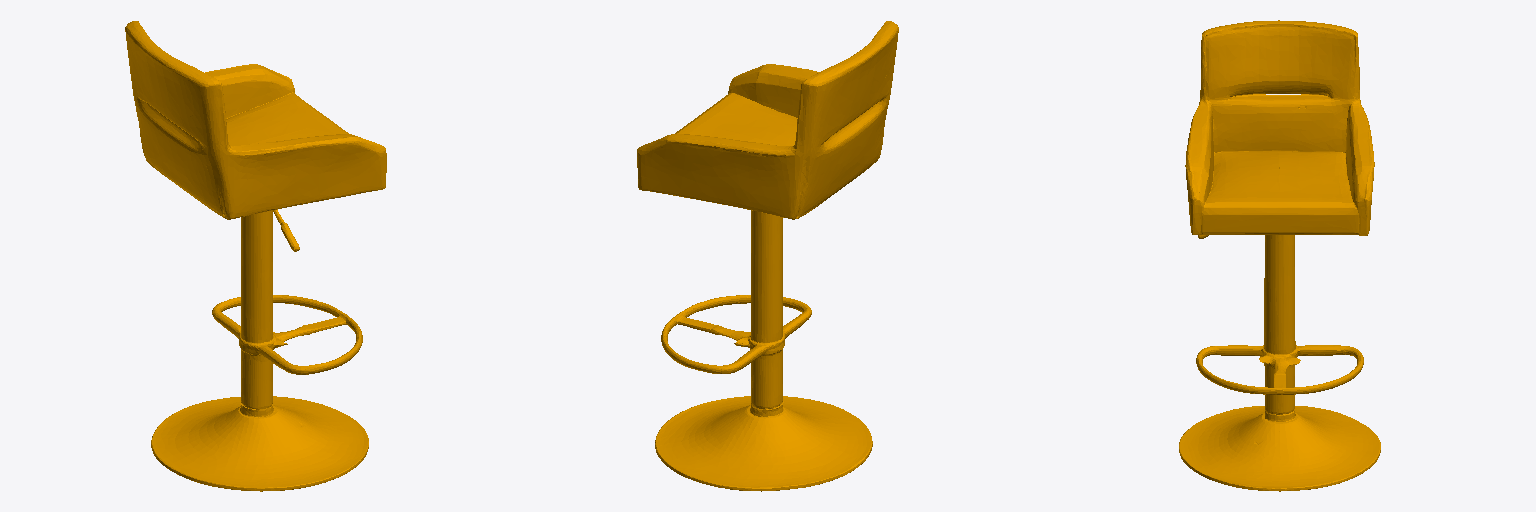
The robot description file, URDF, robot "bar_stool_32":
<?xml version="1.0" ?>
<robot name="bar_stool_32">
   <link name="bar_stool_32">
      <visual>
         <origin xyz="0 0 0" rpy="1.5708 0.0 0.0"/>
         <geometry>
            <mesh filename="mesh/bar_stool_32.obj" scale="1.0 1.0 1.0"/>
         </geometry>
      </visual>
      <collision>
         <origin xyz="0 0 0" rpy="1.5708 0.0 0.0"/>
         <geometry>
            <mesh filename="mesh/bar_stool_32_collision.obj" scale="1.0 1.0 1.0"/>
         </geometry>
         <gazebo>
            <mu1>0.80</mu1>
            <mu2>0.60</mu2>
         </gazebo>
      </collision>
      <inertial>
         <mass value="8.0000"/>
         <origin xyz="0 0 0"/>
         <inertia ixx="1.0" ixy="0.0" ixz="0.0" iyy="1.0" iyz="0.0" izz="1.0"/>
      </inertial>
      <extra_info>
         <scale>1.000000</scale>
         <version>v0.1.5</version>
         <category>bar_stool</category>
         <description>modern orange bar stool with backrest, footrest, and adjustable height mechanism</description>
         <min_height>0.9</min_height>
         <max_height>1.1</max_height>
         <real_height>1.0</real_height>
         <min_mass>6.0</min_mass>
         <max_mass>10.0</max_mass>
         <generate_time>20251021123119</generate_time>
         <gs_model>mesh/bar_stool_32_gs.ply</gs_model>
      </extra_info>
   </link>
   <custom_data>
      <quality>
         <MeshGeoChecker>YES</MeshGeoChecker>
         <ImageSegChecker>YES</ImageSegChecker>
         <ImageAestheticChecker>5.189658164978027</ImageAestheticChecker>
         <overall>YES</overall>
      </quality>
   </custom_data>
</robot>

--- Facts derived from the render (not from the file) ---
Views: 3 orthographic renders of the robot side by side, from view 1: azimuth 30°, elevation 25°; view 2: azimuth 150°, elevation 25°; view 3: azimuth 270°, elevation 25°.
Robot: bar_stool_32 — 1 links, 0 joints (none); root link bar_stool_32; default pose: all joints at 0.
Links seen in each view (by area): view 1: bar_stool_32; view 2: bar_stool_32; view 3: bar_stool_32.
Boxes of the visible links, x1,y1,x2,y2 form: bar_stool_32: (125,21,386,491); bar_stool_32: (637,21,898,491); bar_stool_32: (1179,20,1380,491).
Bounding box of the posed robot: 0.5041 × 0.4787 × 1 m (x, y, z).
Meshes: 1 distinct files referenced, 1 mesh visuals loaded (1 OBJ).
